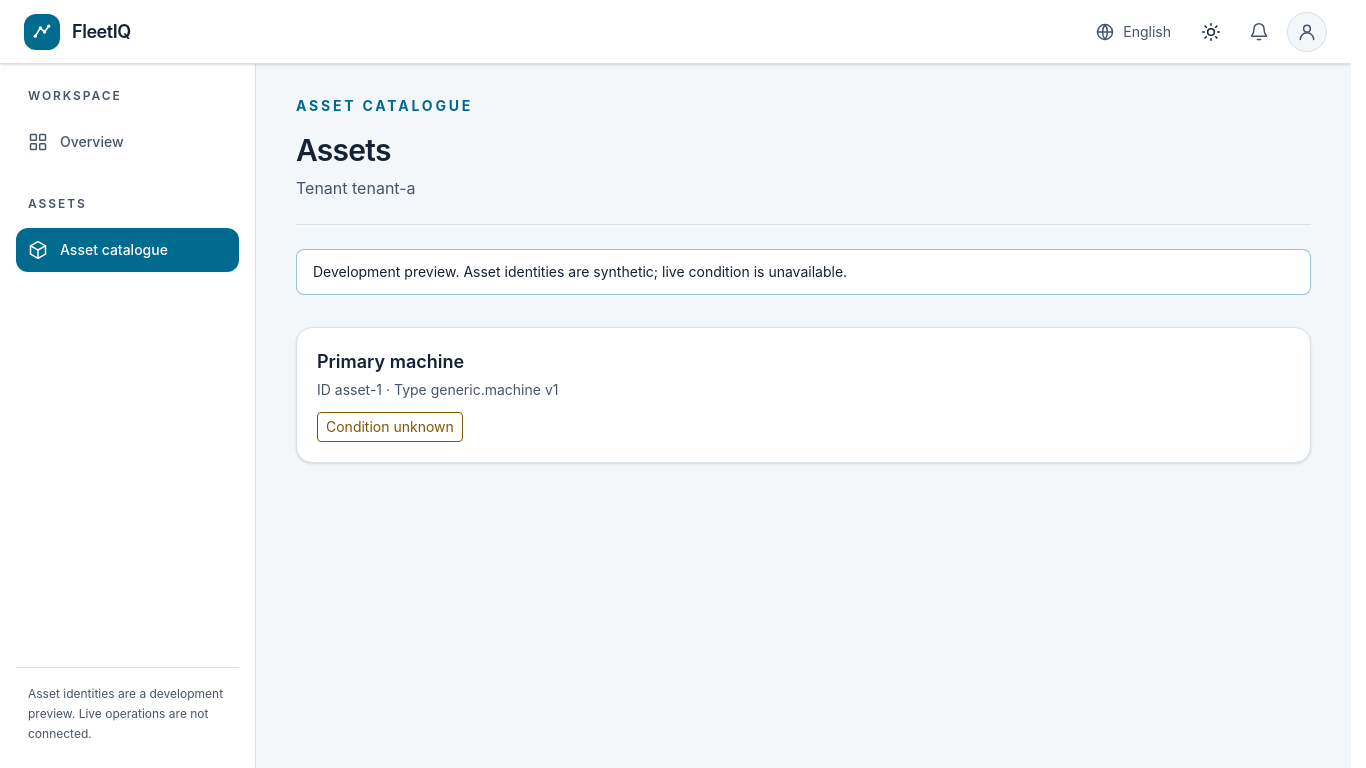
Test case: product chrome and content alignment persist from asset list to identity
Expected: the header "FleetIQ English" is shown, [0,0,1351,64]
Step 1. Click the link "Primary machine" → (438, 396), box [317,351,558,442]
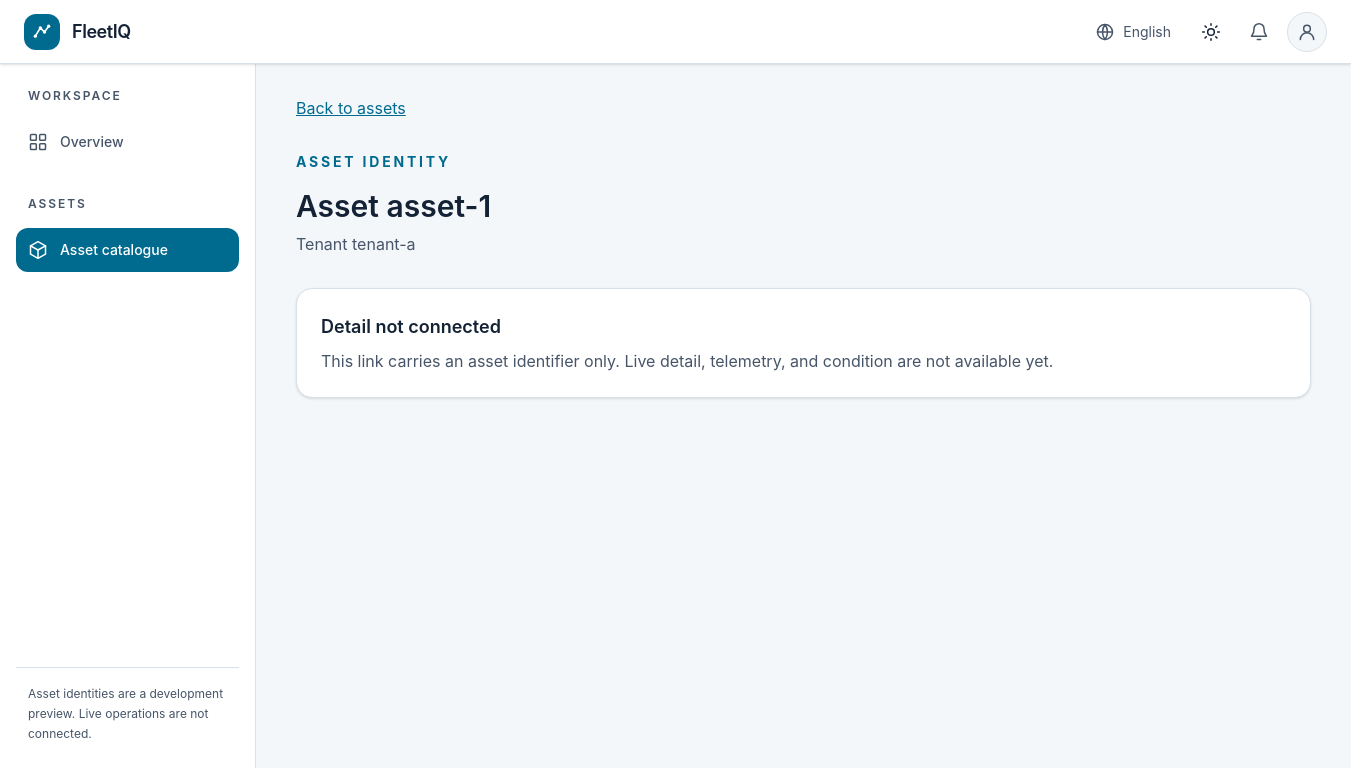
Expected: the heading "Detail not connected" is shown, [321,316,501,337]
